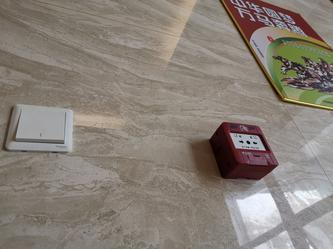switch: (14, 104, 70, 148)
